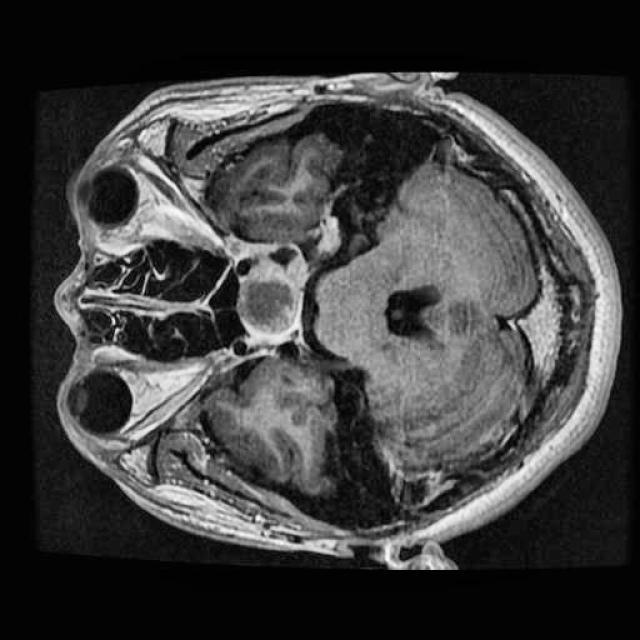Tumor: (236, 270, 315, 338)
